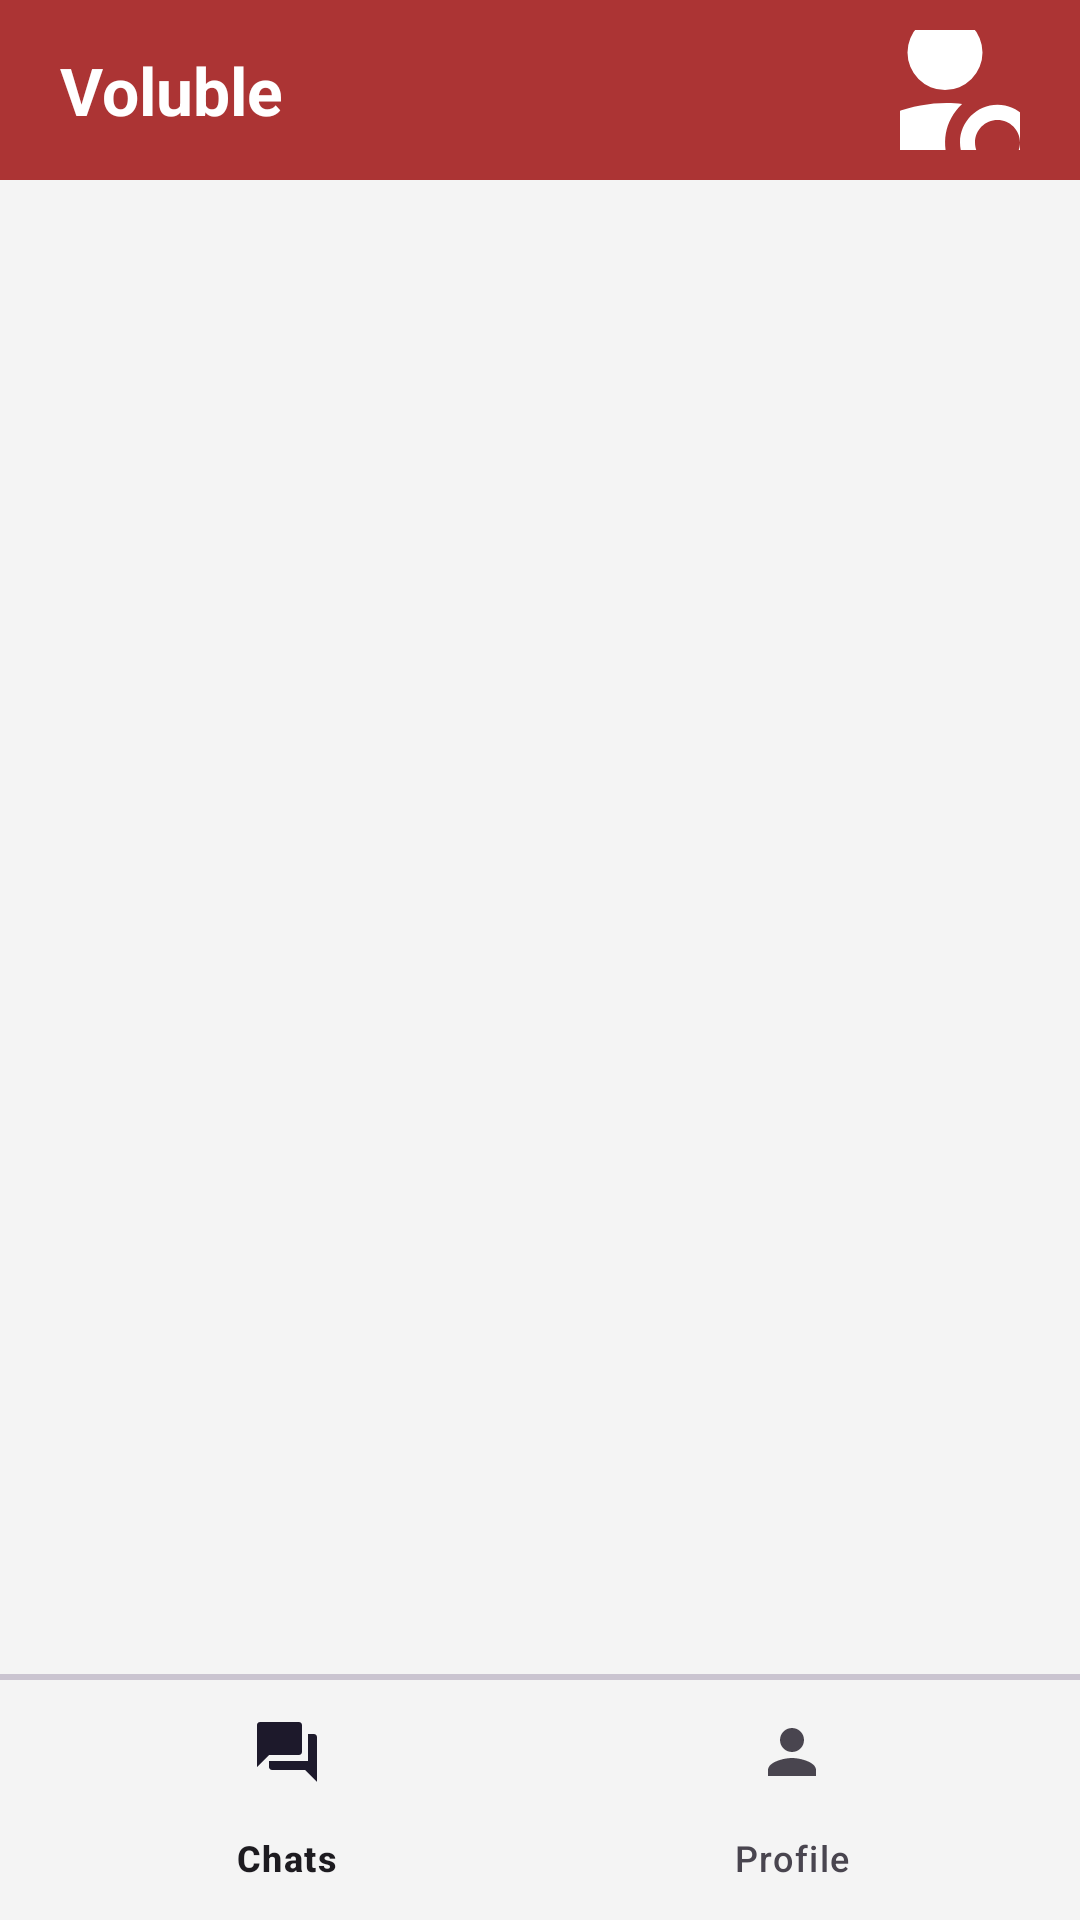

Named icons in this screenshot (1080x1920) and their bounding boxes, bbox=(x1, y1, x2, y2):
person search: bbox=(900, 30, 1020, 150)
